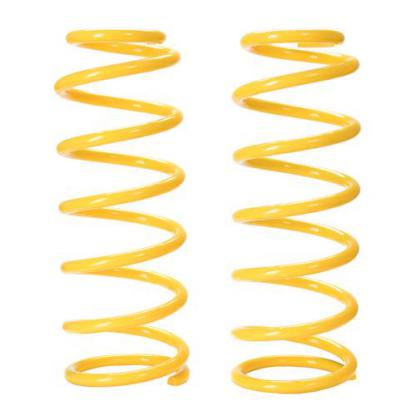FOD: (53, 20, 192, 393), (226, 25, 364, 398)
